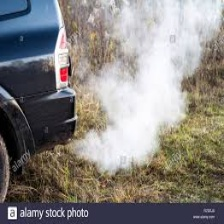smoke: (77, 16, 209, 176)
